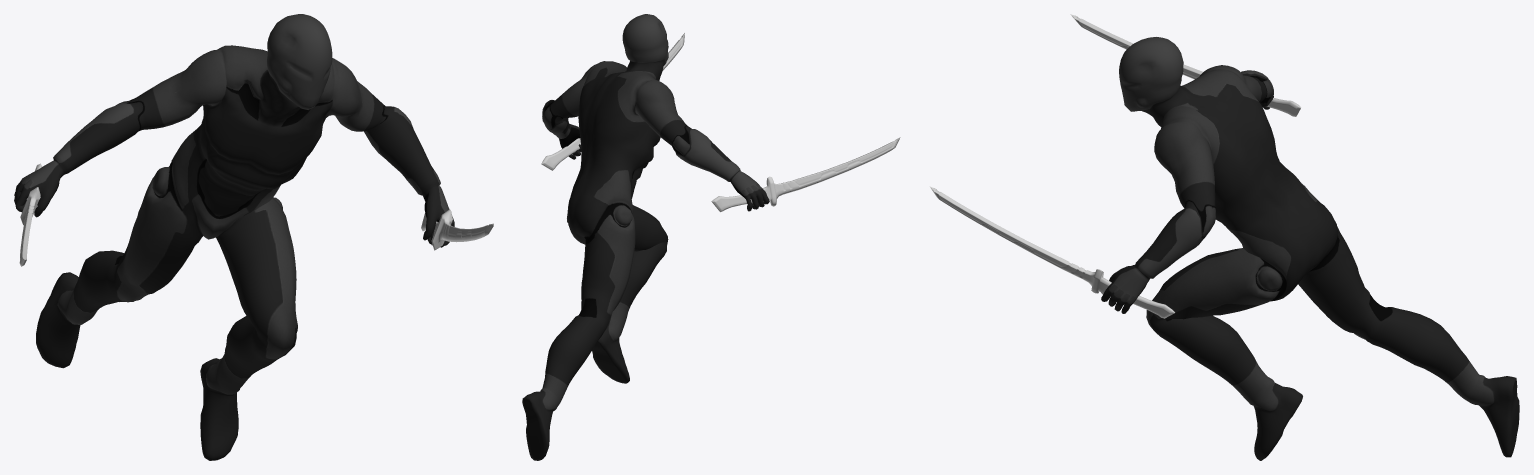
3 views of the same model, side by side, from view 1: azimuth 30°, elevation 25°; view 2: azimuth 150°, elevation 25°; view 3: azimuth 270°, elevation 25° (orthographic). The views are drawn at different scales.
Visible parts, largest first — view 1: Cyborg_Ninja_Killer, Sword_l, Sword_l001; view 2: Cyborg_Ninja_Killer, Sword_l001, Sword_l; view 3: Cyborg_Ninja_Killer, Sword_l, Sword_l001.
Part boxes in pixels (box(x1,y1,x2,y2)): Cyborg_Ninja_Killer: box(14, 14, 454, 460); Sword_l: box(421, 209, 493, 250); Sword_l001: box(19, 163, 42, 266); Cyborg_Ninja_Killer: box(522, 14, 769, 460); Sword_l001: box(711, 137, 900, 212); Sword_l: box(541, 33, 684, 170); Cyborg_Ninja_Killer: box(1101, 37, 1519, 460); Sword_l: box(929, 186, 1174, 318); Sword_l001: box(1070, 14, 1301, 116).
Size of the model in its own units: 154 by 154 by 190.
